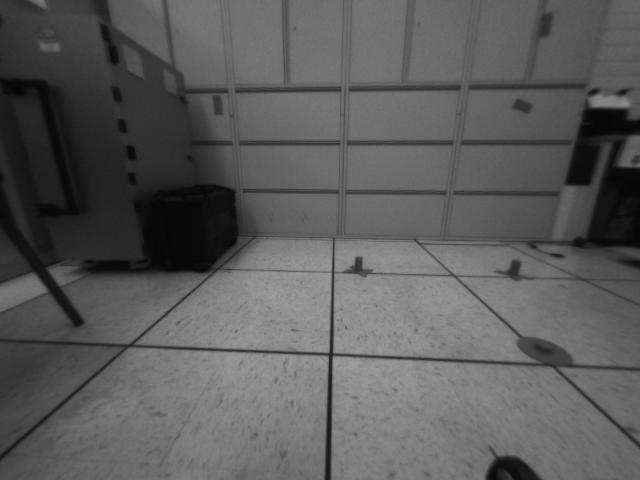X: (491, 257, 536, 284), (342, 255, 374, 278)
